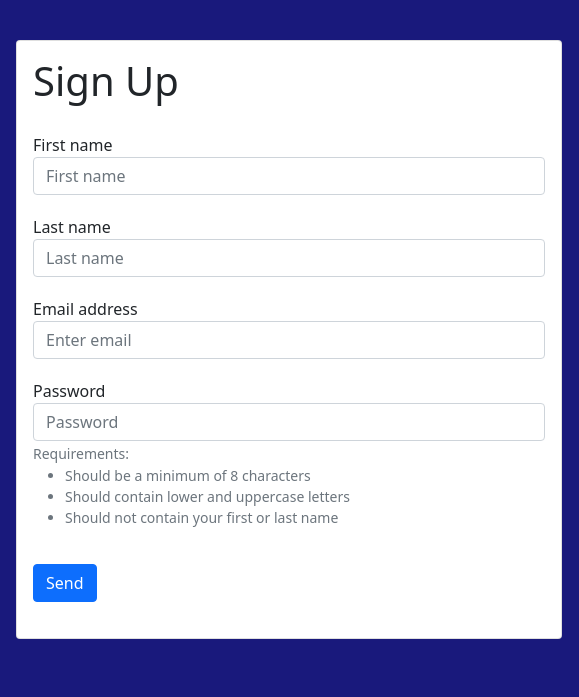
Test: App › submits the form
Type "firstName" into the field labelled "First name".
click(289, 176); type("firstName")  # box [33, 157, 545, 195]
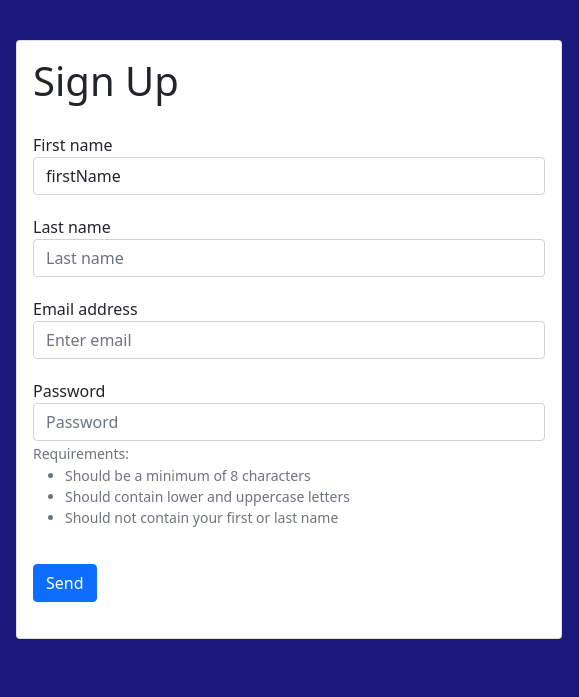
Type "lastName" into the field labelled "Last name".
click(289, 258); type("lastName")  # box [33, 239, 545, 277]
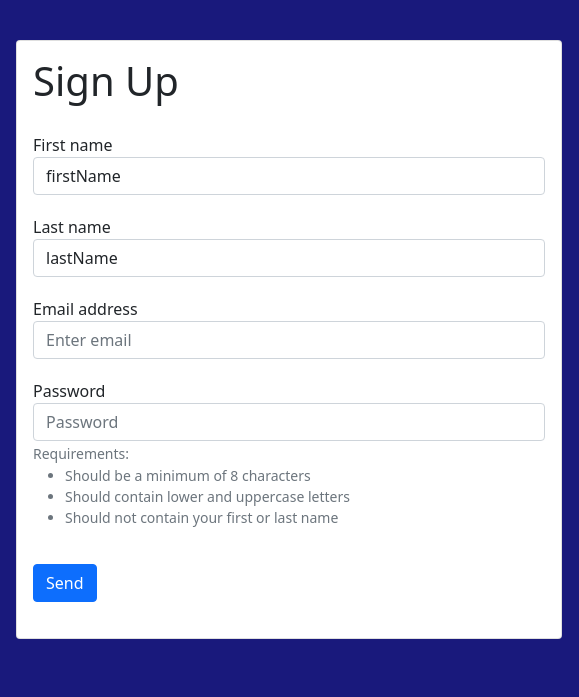
Type "email" into the field labelled "Email address".
click(289, 340); type("email")  # box [33, 321, 545, 359]
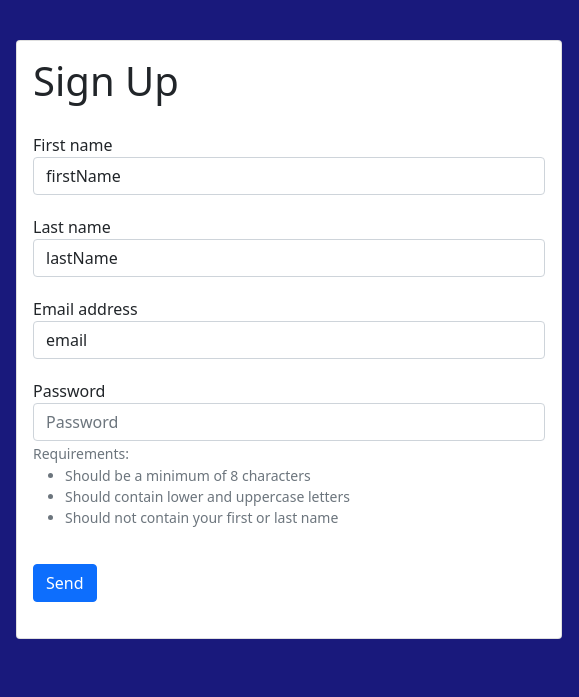
Type "Password123" into the password field labelled "Password".
click(289, 422); type("Password123")  # box [33, 403, 545, 441]
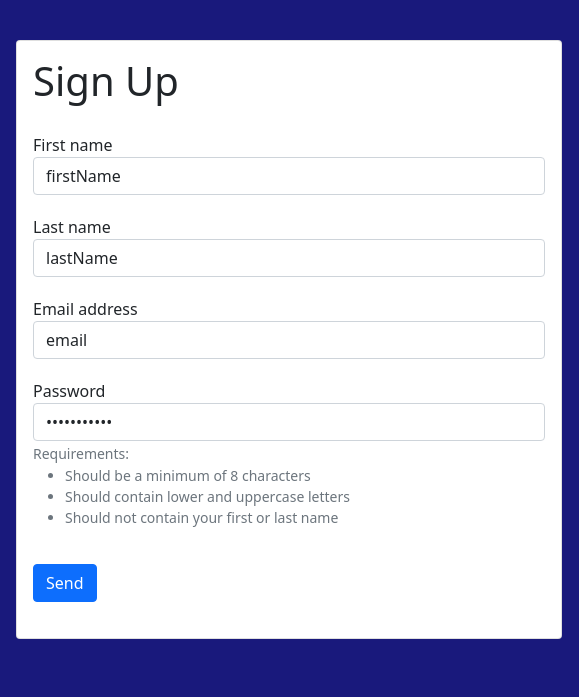
Click the button "Send".
click(65, 583)  # box [33, 564, 96, 602]
(page scrolled)
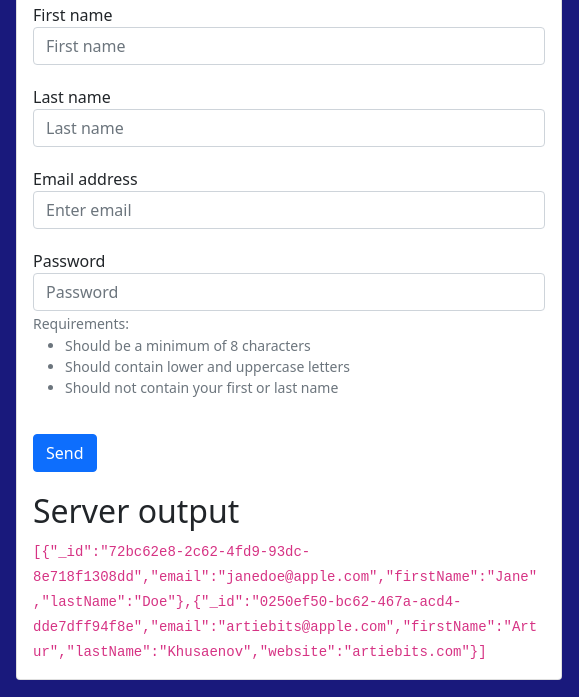
Check: the element with test id "server-output" is shown, box [33, 492, 545, 663]
